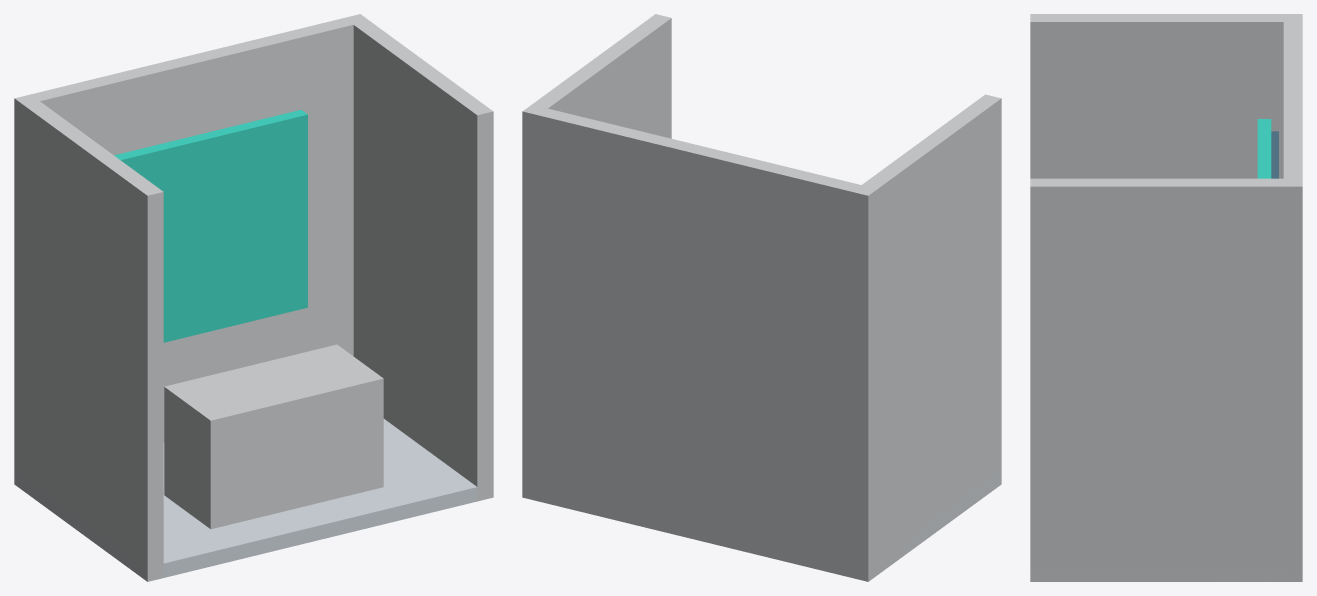
3 views of the same model, side by side, from view 1: azimuth 30°, elevation 25°; view 2: azimuth 150°, elevation 25°; view 3: azimuth 270°, elevation 25° (orthographic). The views are drawn at different scales.
Visible parts, largest first — view 1: Exhibition Booth Concept; view 2: Exhibition Booth Concept; view 3: Exhibition Booth Concept.
Boxes of the visible parts, bbox=[...] form: Exhibition Booth Concept: bbox=[14, 14, 493, 581]; Exhibition Booth Concept: bbox=[522, 14, 1001, 581]; Exhibition Booth Concept: bbox=[1030, 14, 1302, 581].
Bounding box in the file's own units: 3 × 3.2 × 2.
